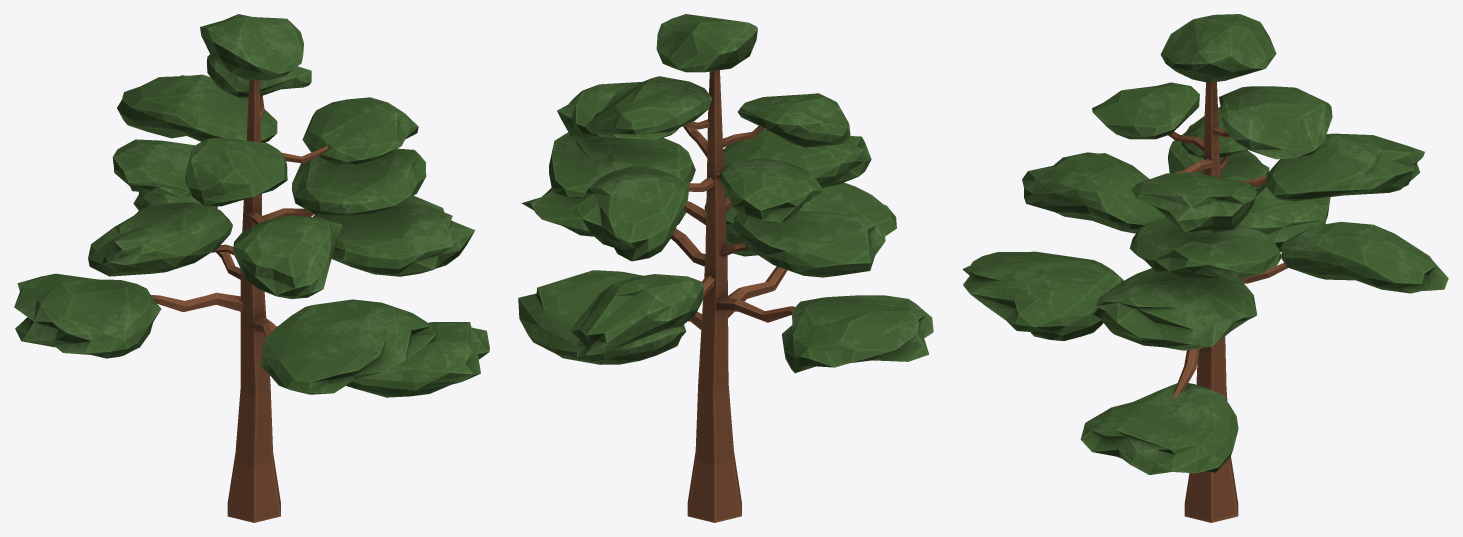
The model's file is Tree.glb.
3 renders of one model, left to right at view 1: azimuth 30°, elevation 25°; view 2: azimuth 150°, elevation 25°; view 3: azimuth 270°, elevation 25°, orthographic.
Visible parts, largest first — view 1: BubingaTree_mesh; view 2: BubingaTree_mesh; view 3: BubingaTree_mesh.
Part boxes in pixels (x1,y1,x2,y2): BubingaTree_mesh: (14, 14, 489, 522); BubingaTree_mesh: (518, 14, 933, 522); BubingaTree_mesh: (962, 14, 1448, 522).
Size of the model in its own units: 21.03 by 22.43 by 20.35.
1 material, 1 textured.
